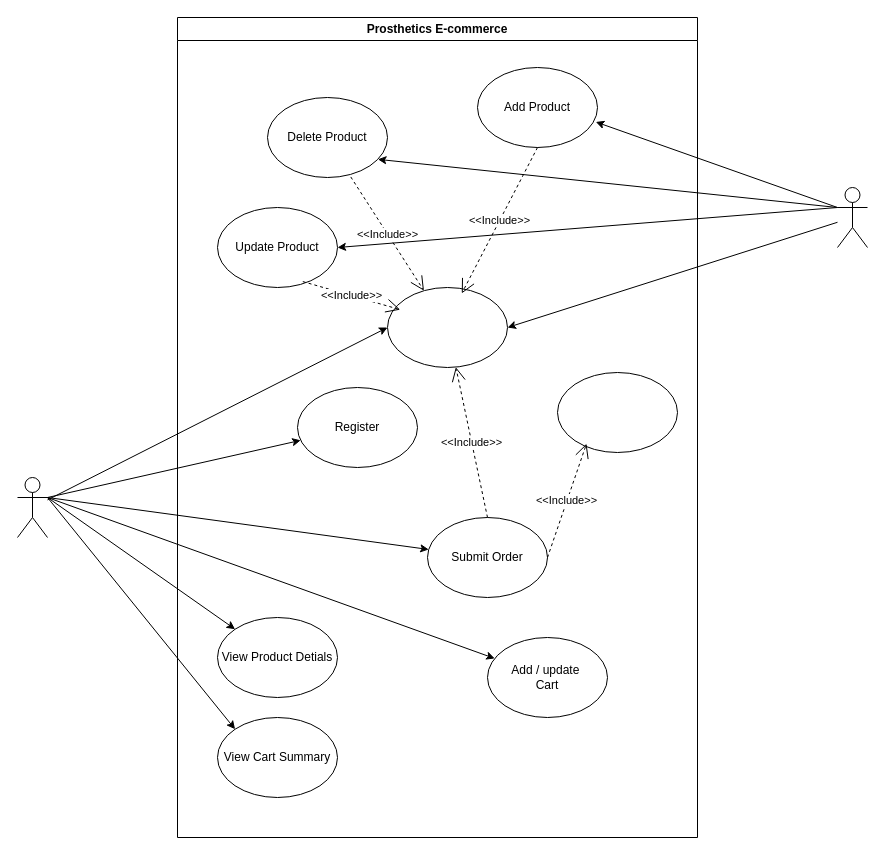
The diagram is 887 pixels wide and 855 high, and some of its shapes have lost their labels. The centre of each missing label's shape, as x and y in pixels:
Admin: the point at 852,217
enter shipping Info: the point at 617,412
Login: the point at 447,327
User: the point at 32,507
